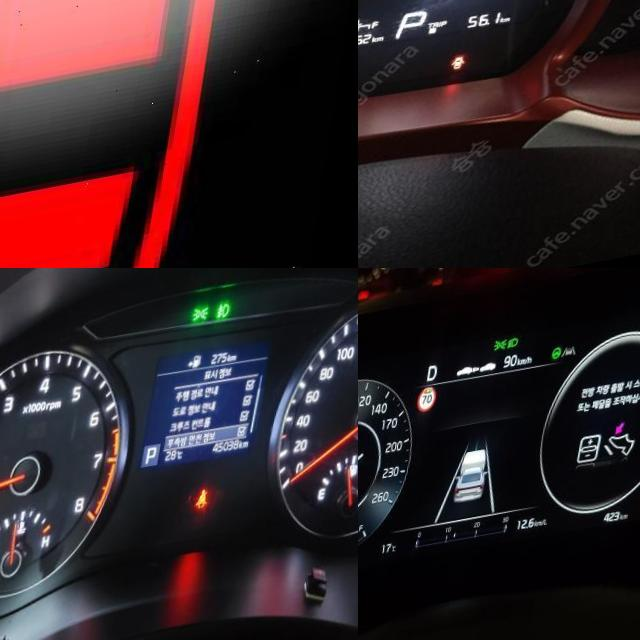FrontFogLight: (222, 315, 236, 332)
Low beam: (513, 351, 526, 364)
SideLamp: (197, 318, 215, 334), (500, 351, 514, 366)
